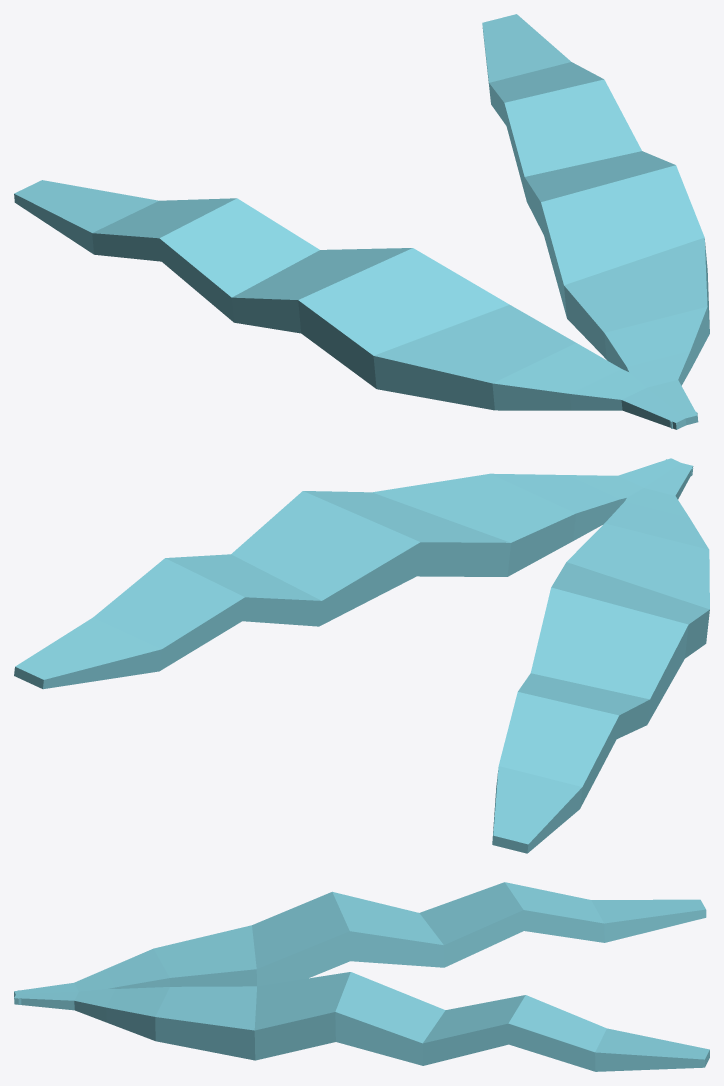
The model's file is ExtraJump.fbx.
The picture shows the model from 3 angles, top to bottom: view 1: azimuth 30°, elevation 25°; view 2: azimuth 150°, elevation 25°; view 3: azimuth 270°, elevation 25°; orthographic projection. The views are drawn at different scales.
Visible parts, largest first — view 1: Cube.001; view 2: Cube.001; view 3: Cube.001.
Boxes of the visible parts, x1=… form: Cube.001: x1=14, y1=14, x2=709, y2=429; Cube.001: x1=14, y1=458, x2=709, y2=853; Cube.001: x1=14, y1=882, x2=709, y2=1071.
Size of the model in its own units: 8.05 by 1.58 by 11.52.
